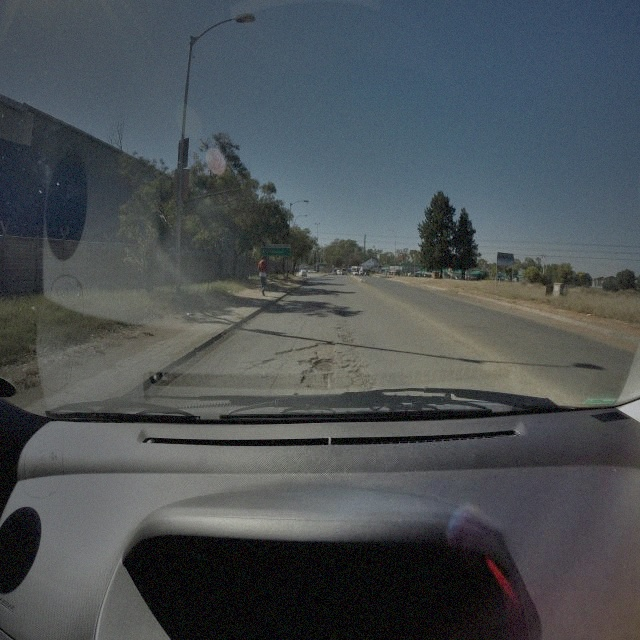pothole: (277, 338, 335, 364), (311, 356, 334, 375), (300, 368, 312, 388), (322, 373, 330, 392)
